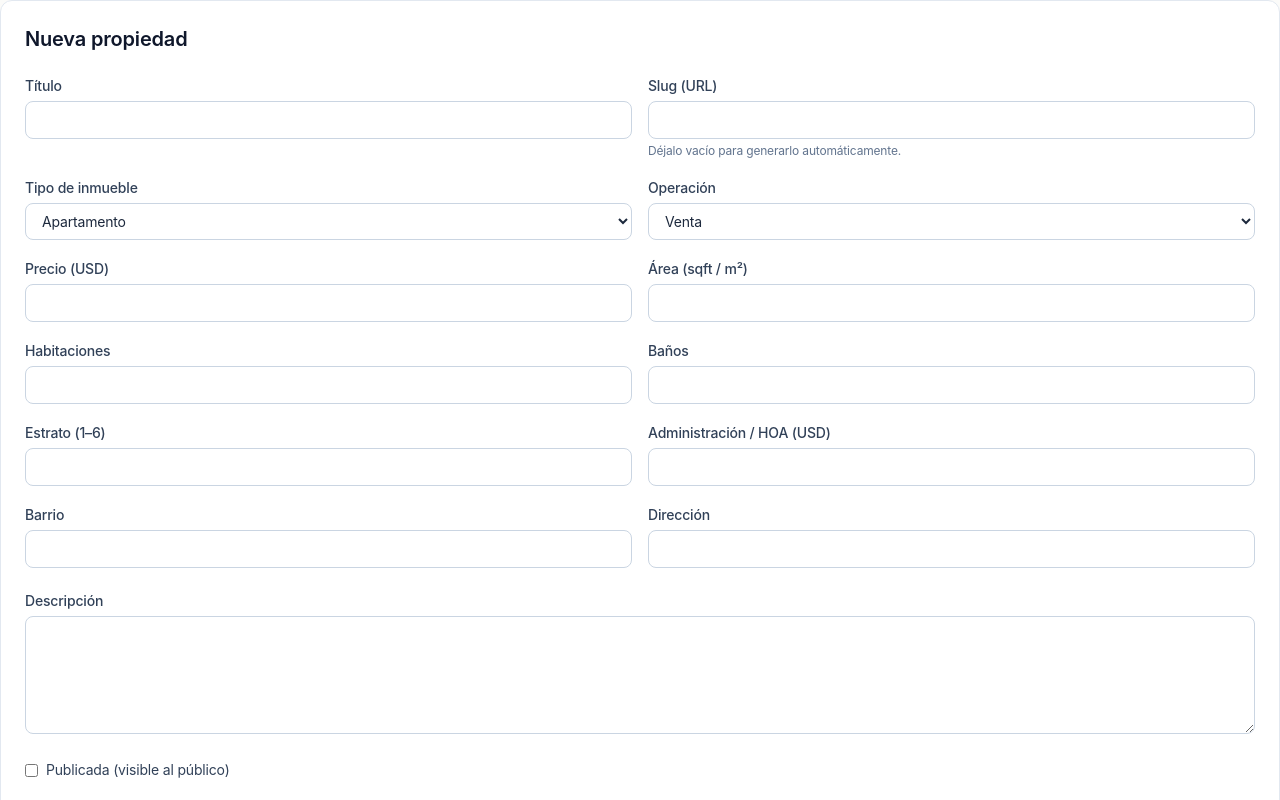
Test: ListingForm › shows a slug-taken message on 409
Type "Casa Granada" into the field labelled "Título" at (328, 120), box [25,101,632,139]
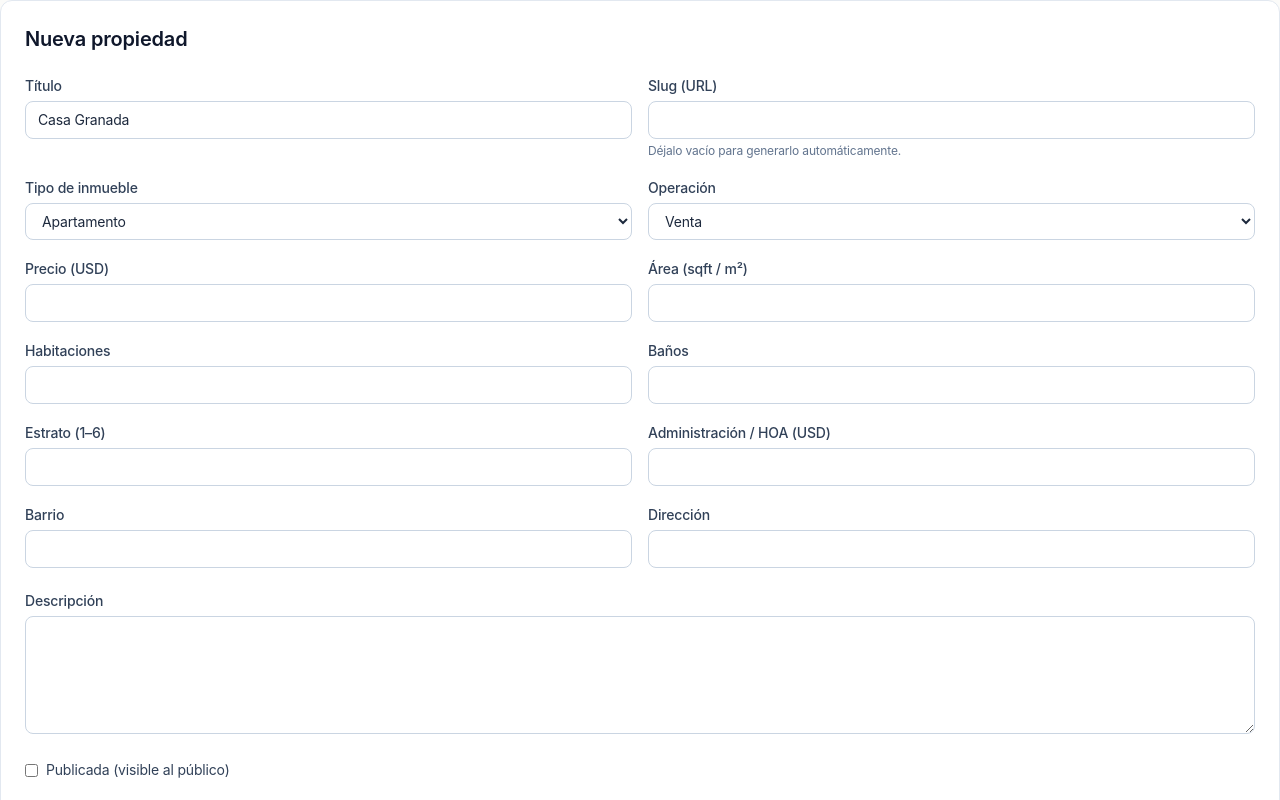
Type "450000000" into the field labelled "Precio (USD)" at (328, 303), box [25,284,632,322]
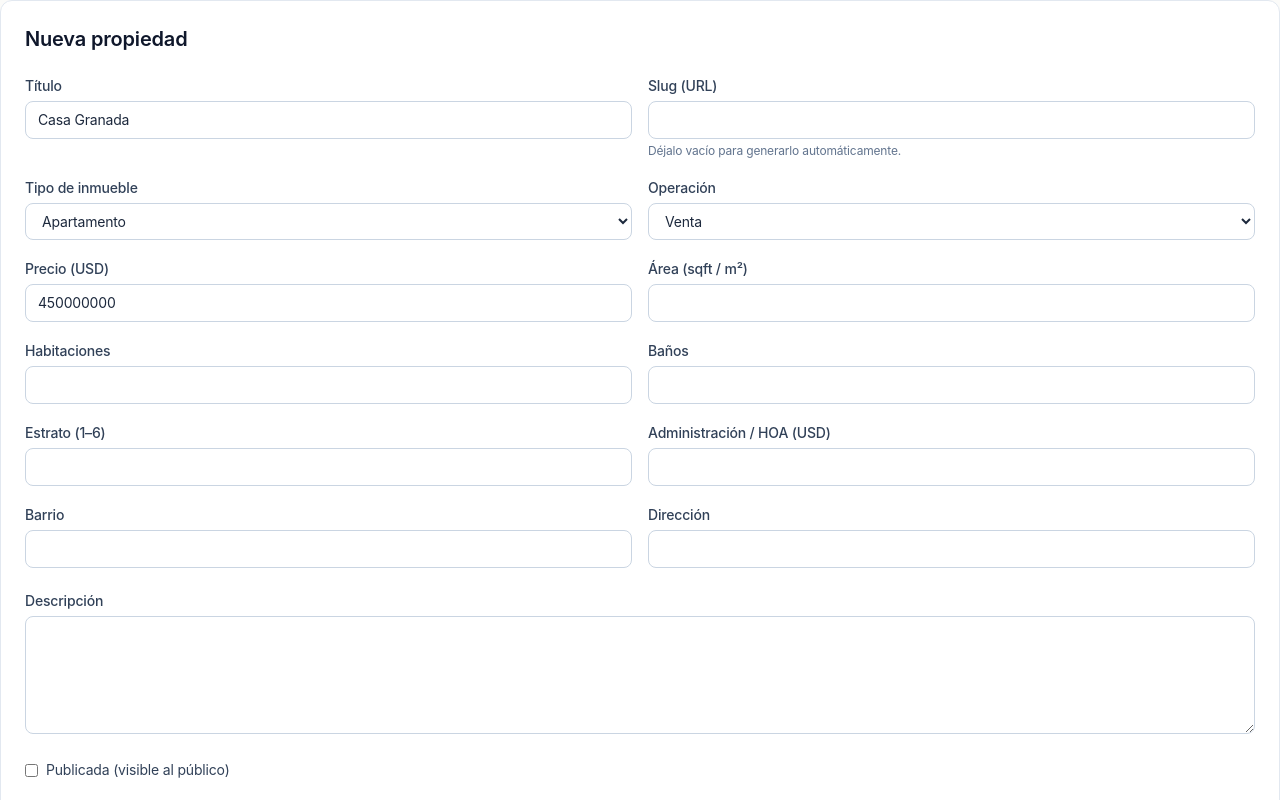
Type "Granada" into the field labelled "Barrio" at (328, 549), box [25,530,632,568]
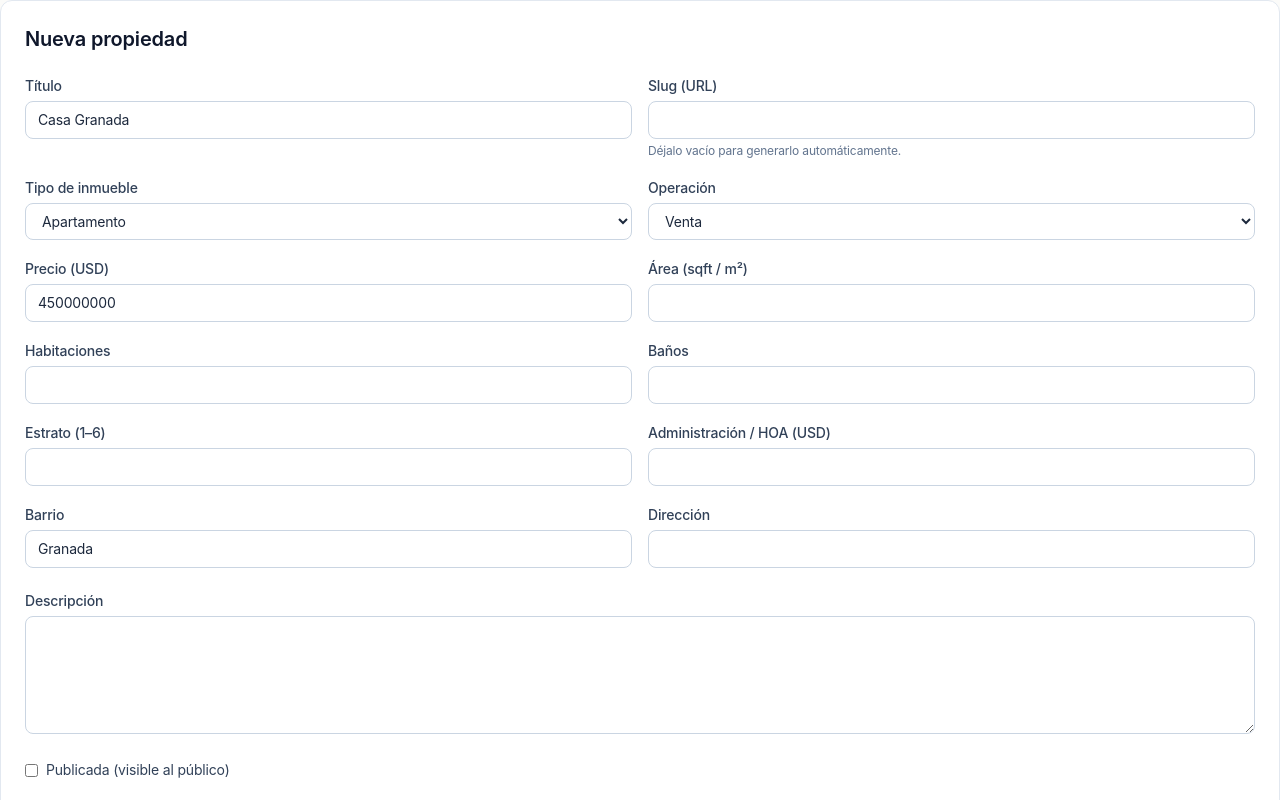
Type "taken" into the field labelled "Slug (URL)" at (952, 120), box [648,101,1255,139]
(page scrolled)
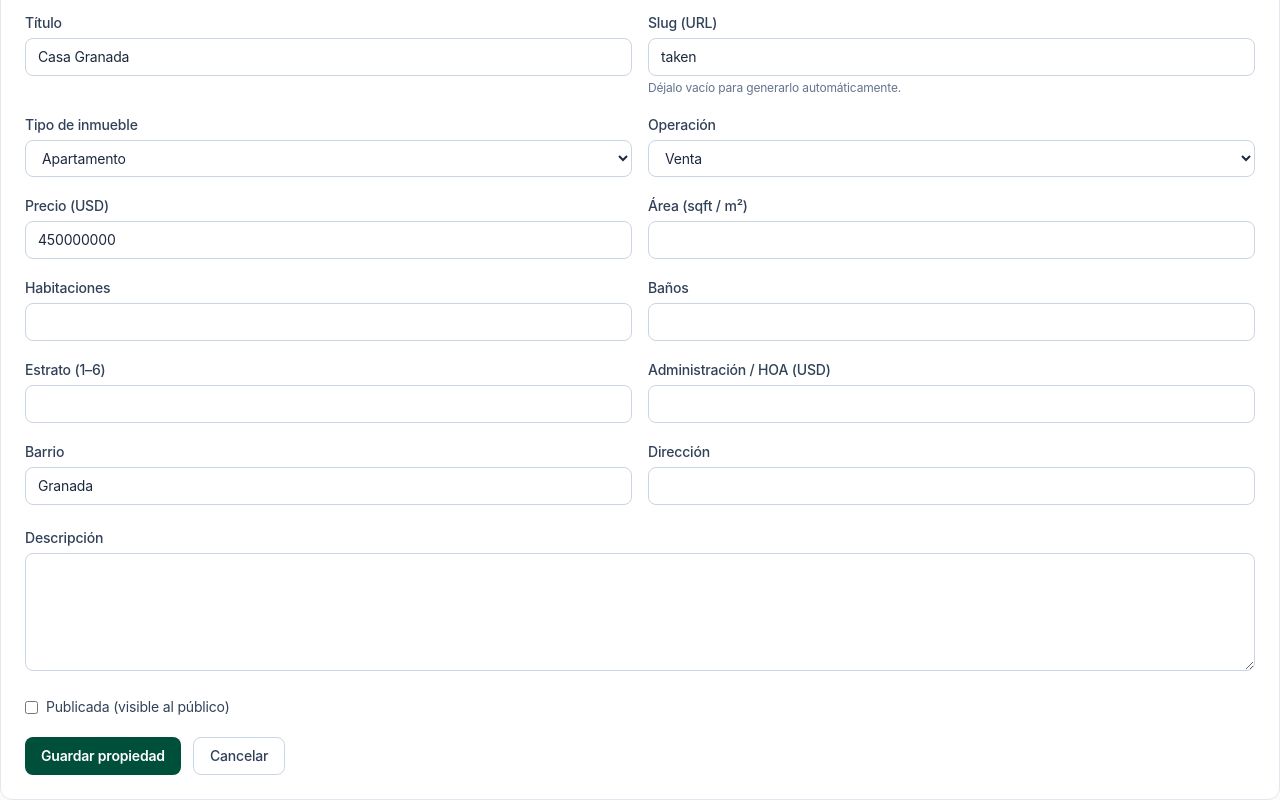
Click the button "Guardar propiedad" at (103, 756), box [25,737,181,775]
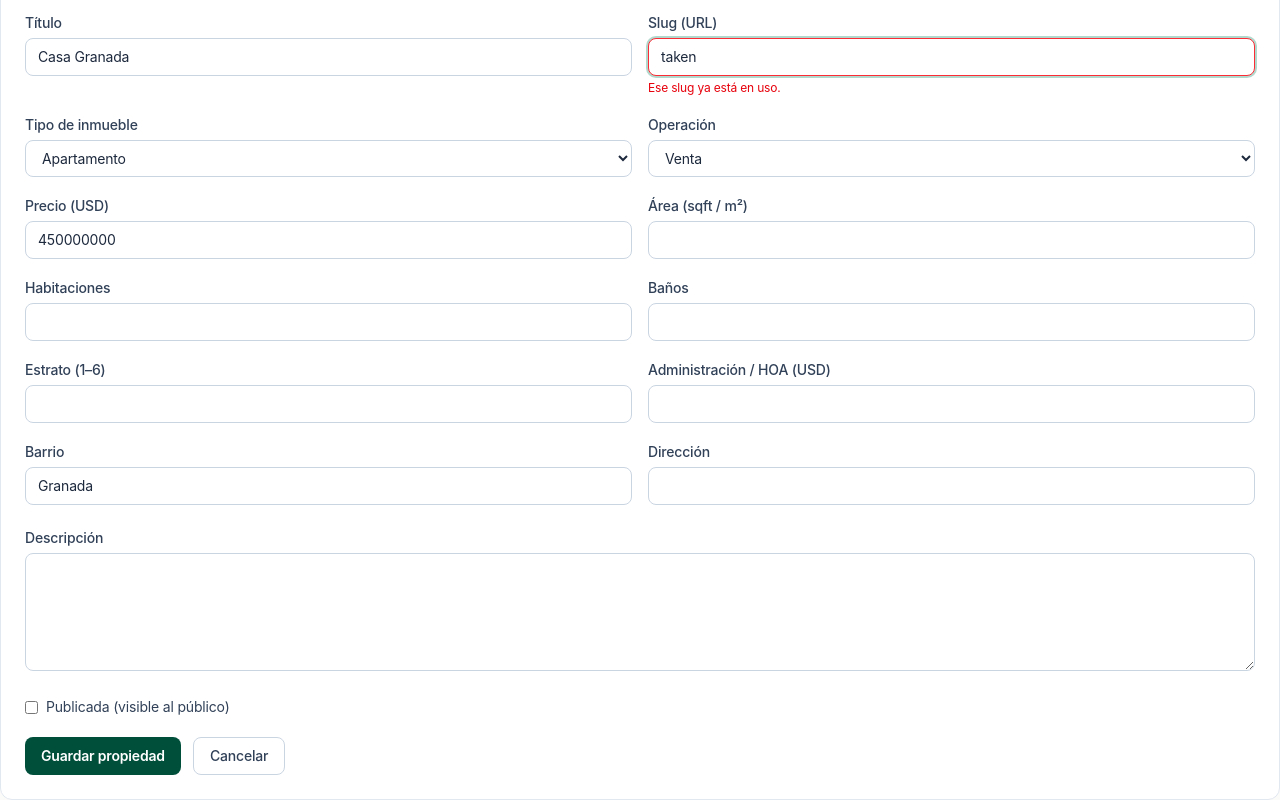
Expected: the text "Ese slug ya está en uso." is shown, [648,80,780,95]
